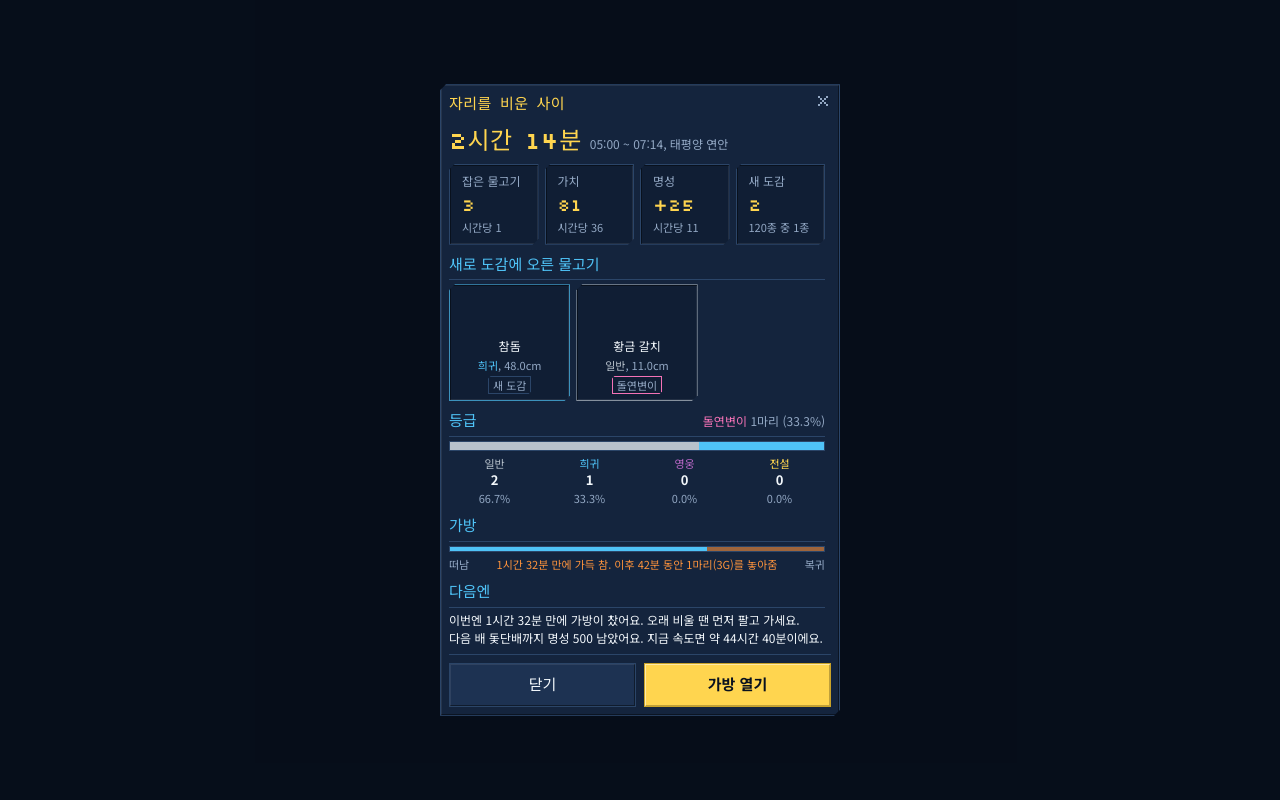
Test case: 결과 창 › 새로 도감에 오른 물고기 카드를 누르면 어종 상세 창이 열린다
Click the button "참돔 희귀, 48.0cm 새 도감": (510, 343) [449,284,570,401]
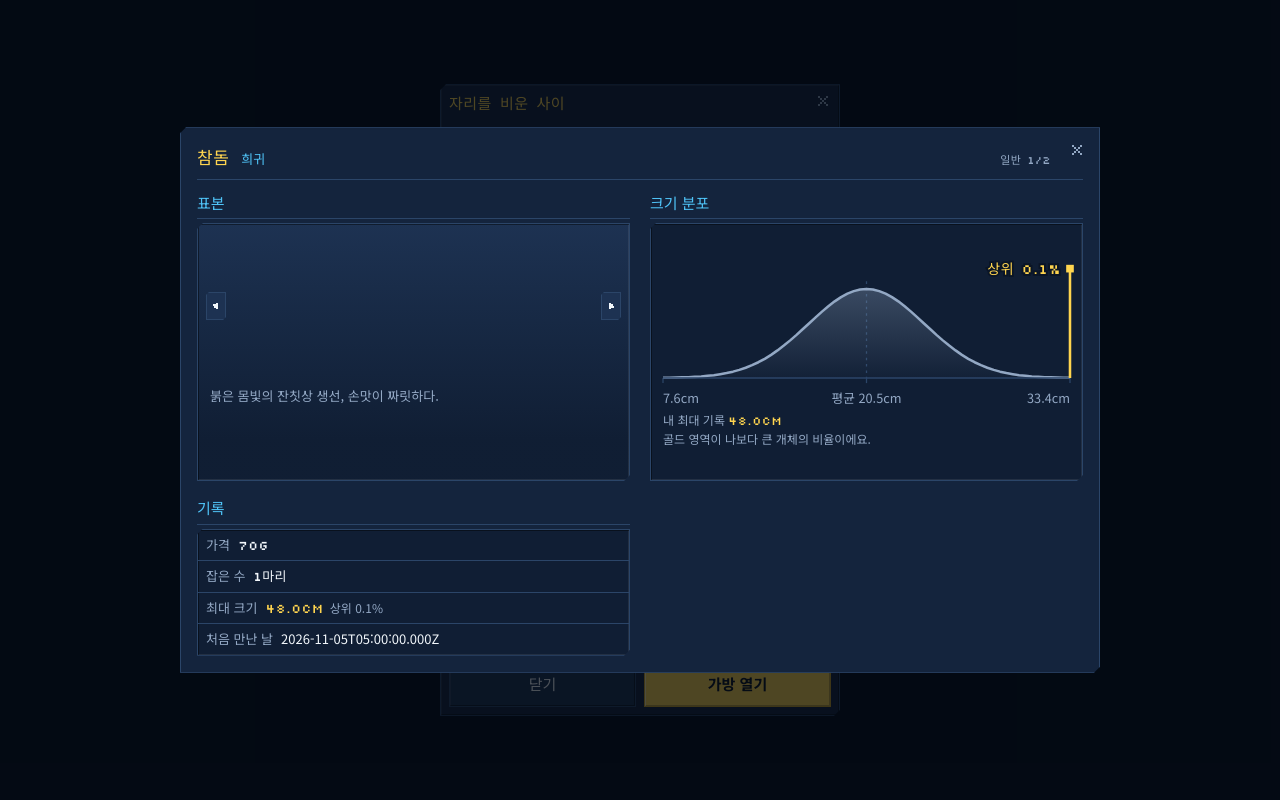
Check: the dialog shows "참돔", box [197,146,229,168]
Check: the dialog shows "표본", box [197,192,225,213]
